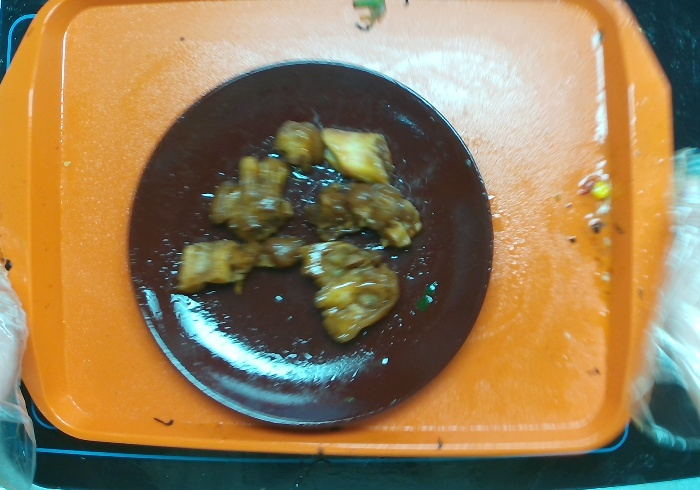HZYJPL-Ka_Fei_Yuan_Pan: (128, 64, 495, 439)
